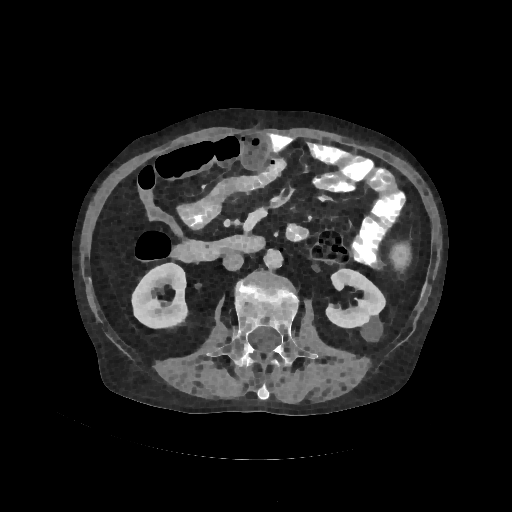Lesion: (357, 315, 387, 346)
